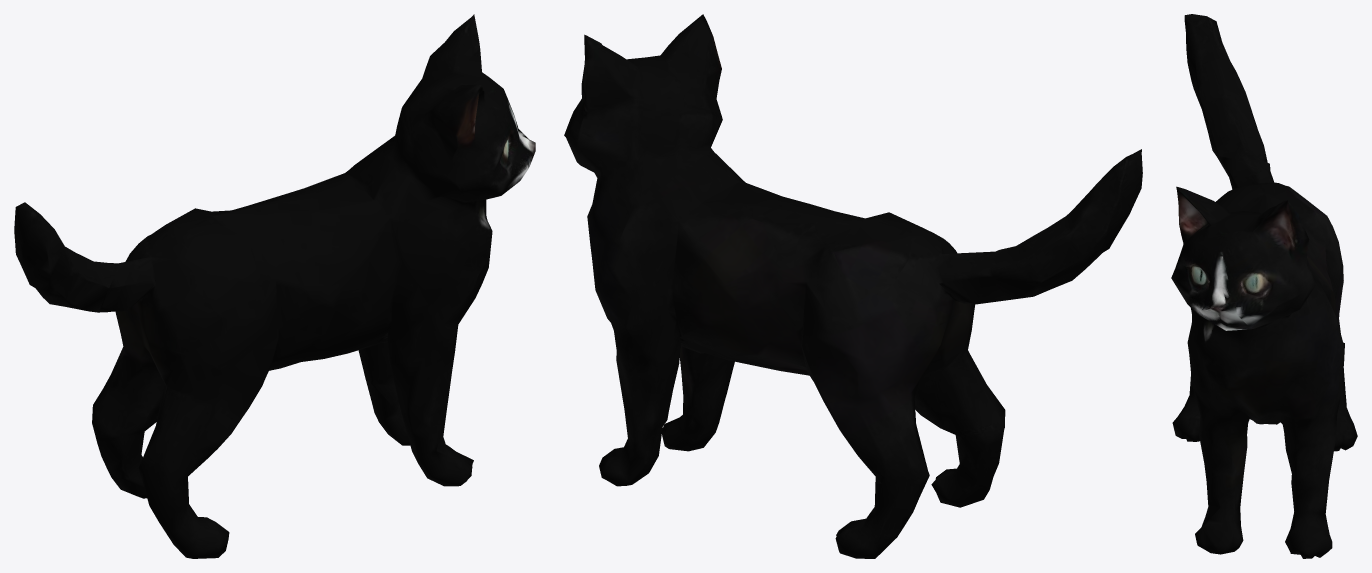
The model's file is WARMSPOT-lo.glb.
3 views of the same model, side by side, from view 1: azimuth 30°, elevation 25°; view 2: azimuth 150°, elevation 25°; view 3: azimuth 270°, elevation 25° (orthographic). The views are drawn at different scales.
Visible parts, largest first — view 1: fit; view 2: fit; view 3: fit.
Boxes of the visible parts, bbox=[...] form: fit: bbox=[14, 14, 535, 558]; fit: bbox=[564, 14, 1142, 558]; fit: bbox=[1171, 14, 1357, 558].
Bounding box in the file's own units: 1.31 × 0.9988 × 0.4496.
Materials: 1 (1 with a texture image).
